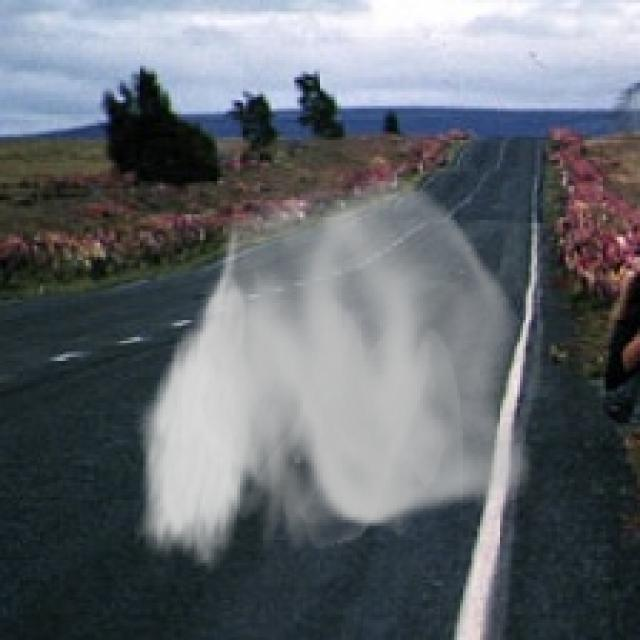smoke: (134, 166, 532, 574)
